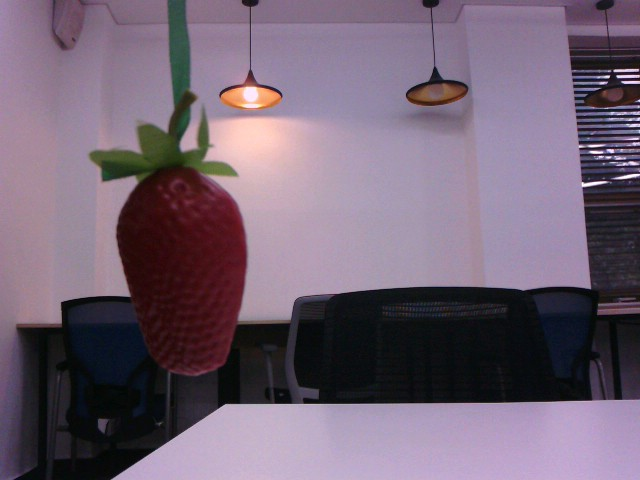strawberry: (105, 154, 251, 375)
